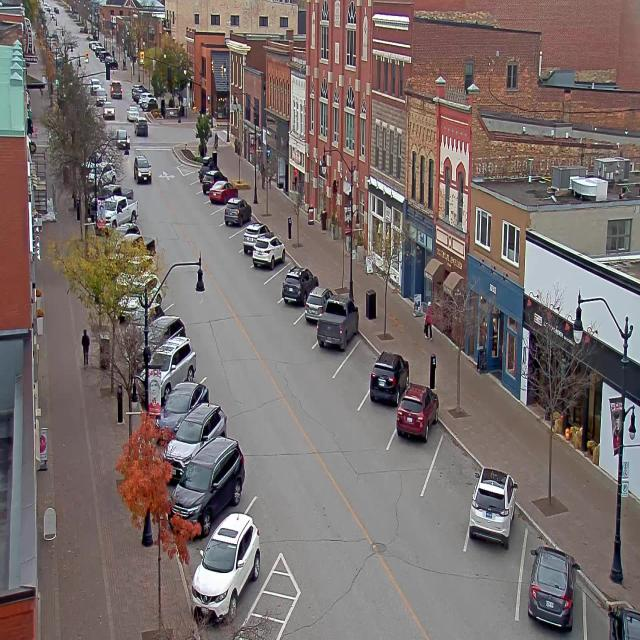available: (430, 426, 483, 504), (344, 330, 379, 385), (262, 253, 288, 304), (229, 225, 248, 257), (210, 199, 229, 229), (185, 166, 199, 187)
occupied: (179, 522, 274, 613), (169, 435, 245, 538), (527, 544, 579, 630), (468, 466, 517, 547), (167, 397, 229, 457), (154, 381, 208, 442), (393, 382, 437, 452), (147, 335, 200, 392), (591, 588, 639, 639), (316, 296, 358, 352), (368, 350, 409, 406), (140, 313, 188, 347), (282, 265, 318, 304), (252, 231, 284, 269), (302, 284, 331, 324), (224, 196, 252, 226), (242, 222, 266, 254), (207, 180, 237, 205), (200, 167, 224, 193), (195, 156, 218, 180)
